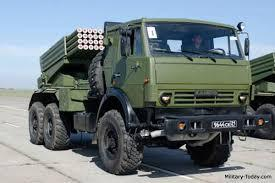MIL_SAM_TEL: (30, 16, 253, 173)
